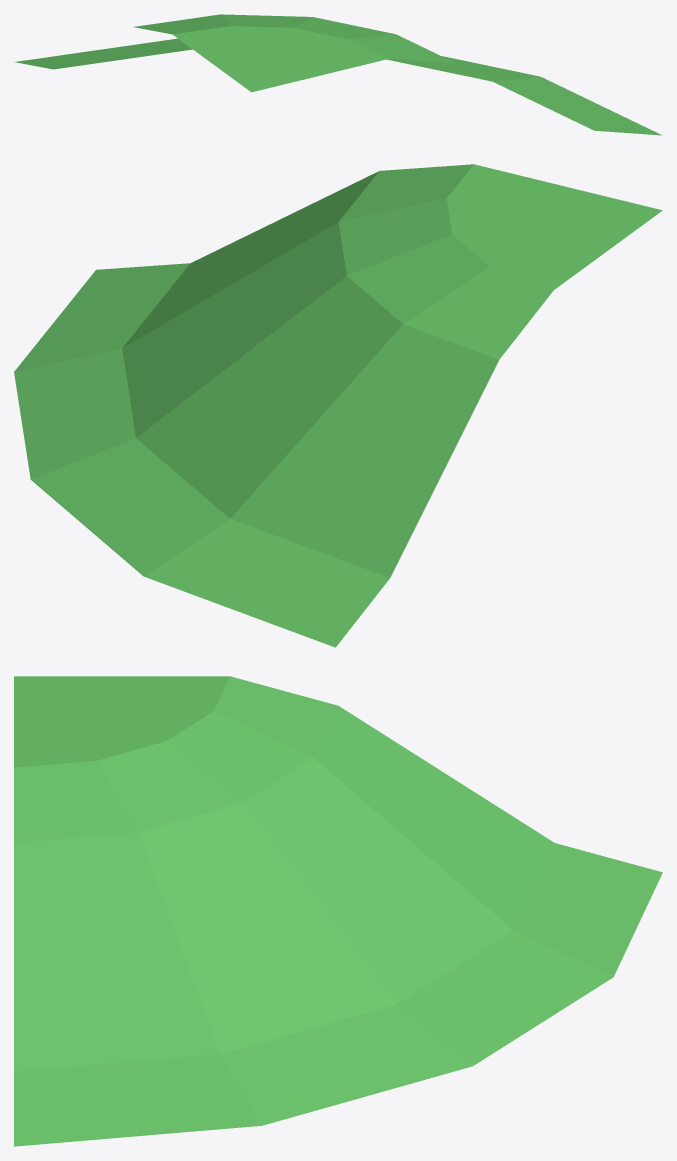
The model's file is Hilly_Terrain_Hill_Corner_Outer_3x3.glb.
The picture shows the model from 3 angles, top to bottom: view 1: azimuth 30°, elevation 25°; view 2: azimuth 150°, elevation 25°; view 3: azimuth 270°, elevation 25°; orthographic projection. The views are drawn at different scales.
Visible parts, largest first — view 1: Hilly_Terrain_Hill_Corner_Outer_3x3; view 2: Hilly_Terrain_Hill_Corner_Outer_3x3; view 3: Hilly_Terrain_Hill_Corner_Outer_3x3.
Boxes of the visible parts, <box> form: Hilly_Terrain_Hill_Corner_Outer_3x3: <box>14,14,662,135</box>; Hilly_Terrain_Hill_Corner_Outer_3x3: <box>14,164,662,647</box>; Hilly_Terrain_Hill_Corner_Outer_3x3: <box>14,676,662,1146</box>.
Size of the model in its own units: 3 by 1 by 3.
